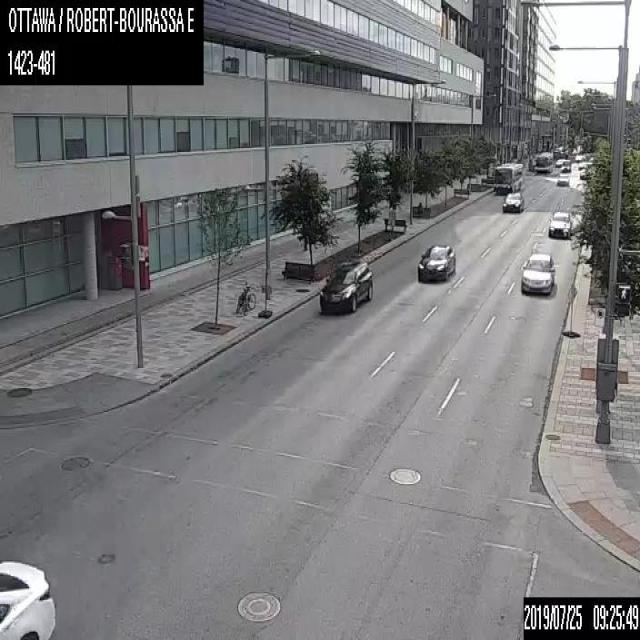bus: (491, 161, 522, 192), (534, 151, 553, 172)
vehicle: (0, 556, 56, 638), (317, 257, 372, 315), (520, 252, 555, 295), (416, 243, 454, 280), (548, 210, 570, 238), (502, 192, 523, 212), (556, 172, 569, 185), (560, 159, 570, 171), (579, 168, 586, 178), (555, 159, 561, 166)
